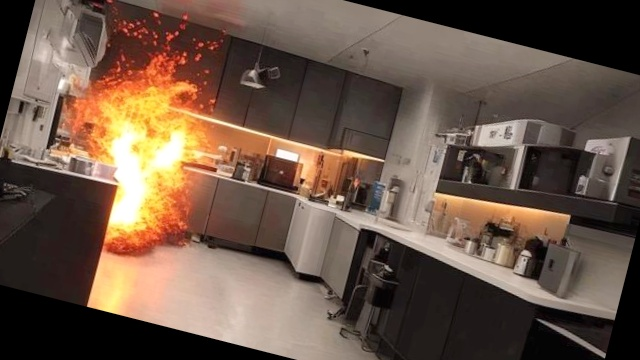fire: (31, 9, 238, 263)
